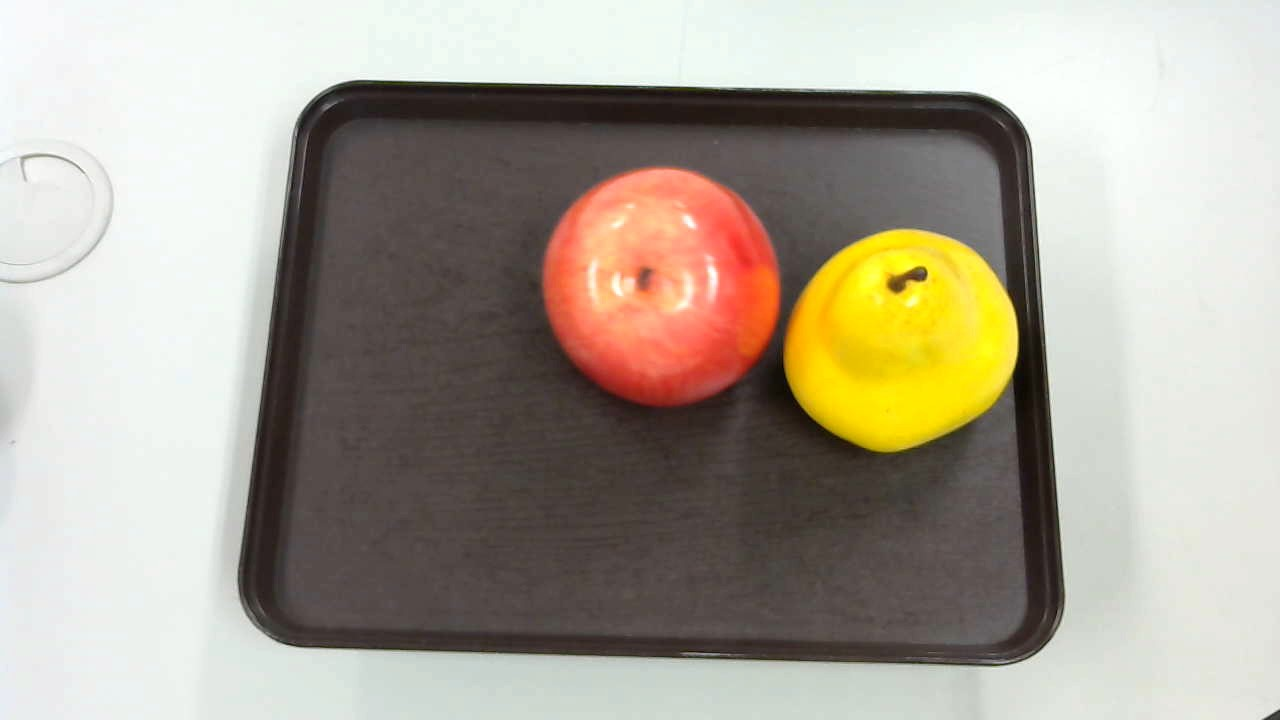red apple: (539, 164, 783, 412)
yellow pear: (782, 230, 1024, 449)
